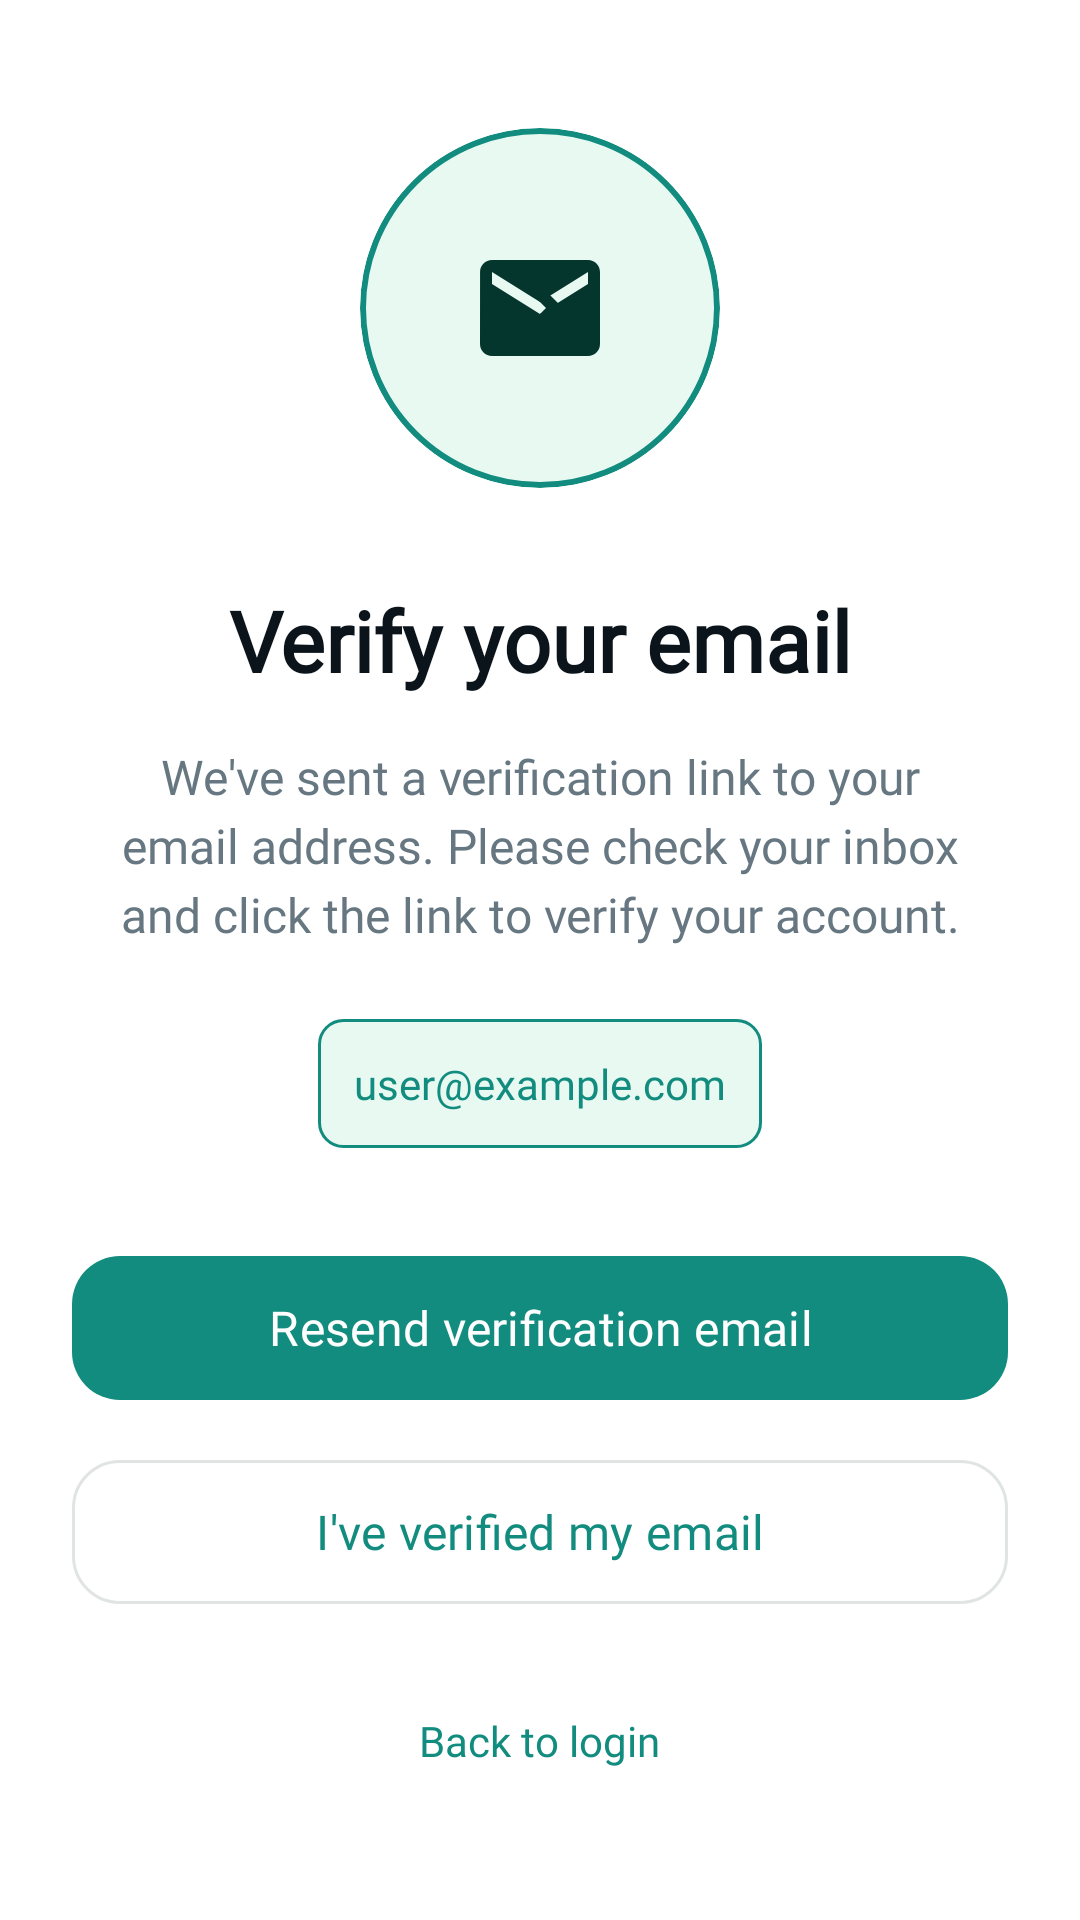

Screen size 1080 × 1920. Icon name, then its box in pixels as (x1, y1, x2, y2):
email verification: (480, 260, 600, 356)
